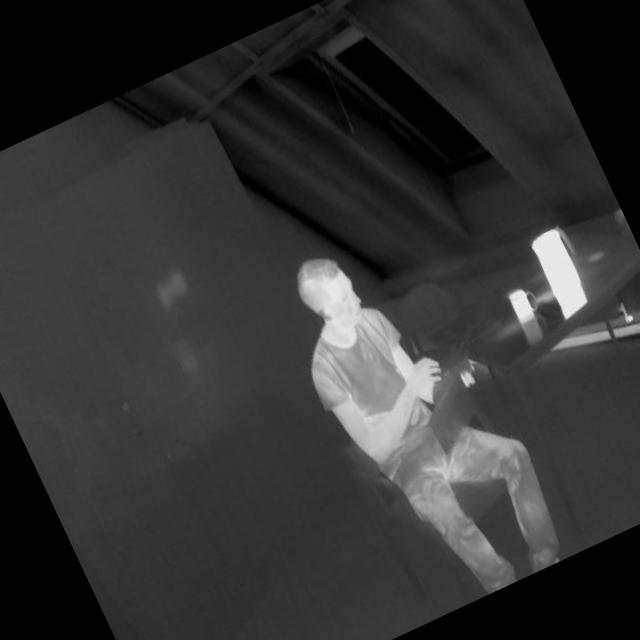person: (262, 217, 558, 625)
